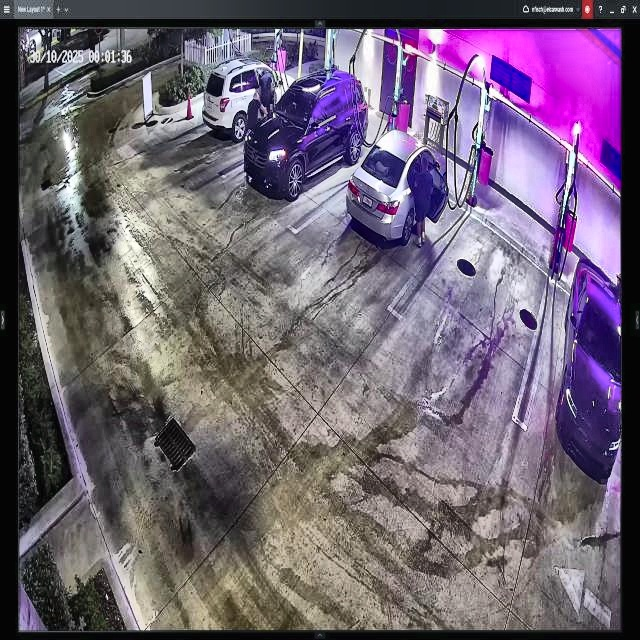Car: (246, 71, 367, 198), (345, 131, 447, 245)
